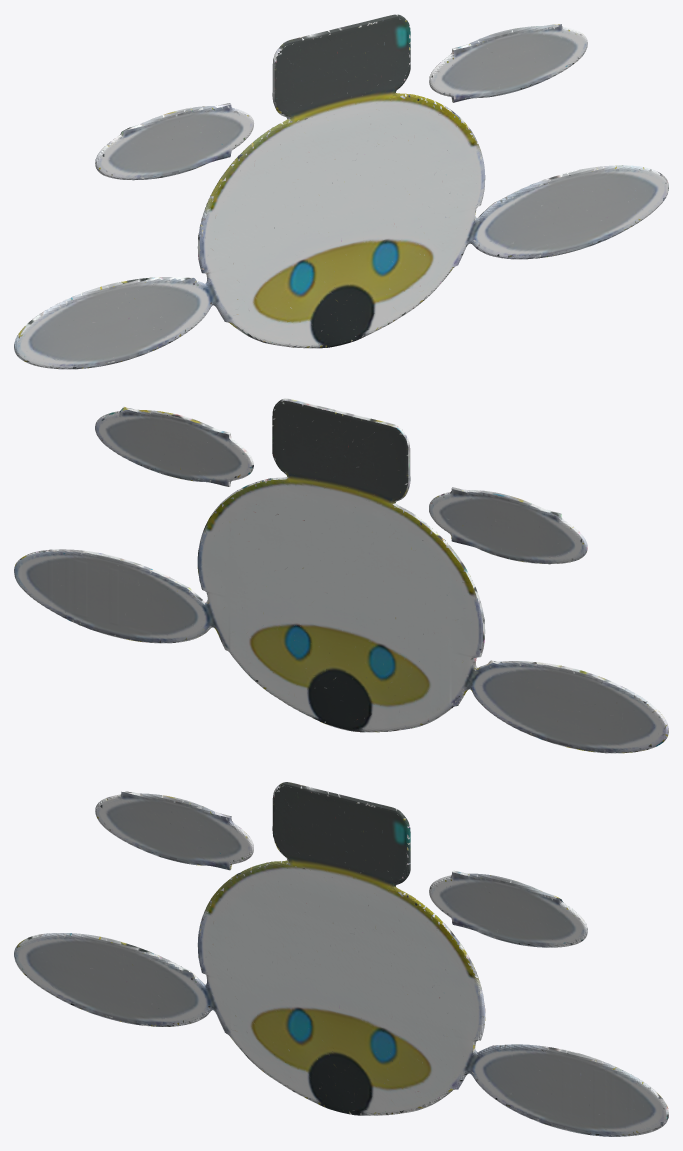
Rendered from zola-drone-body.glb.
The picture shows the model from 3 angles, top to bottom: view 1: azimuth 30°, elevation 25°; view 2: azimuth 150°, elevation 25°; view 3: azimuth 330°, elevation 25°; orthographic projection.
Parts seen in each view (by area): view 1: geometry_0; view 2: geometry_0; view 3: geometry_0.
Boxes of the visible parts, box(x1,y1,x2,y2) form: geometry_0: box(14, 14, 668, 369); geometry_0: box(14, 398, 668, 753); geometry_0: box(14, 782, 668, 1136).
Size of the model in its own units: 1.99 by 0.9252 by 0.0134.
Materials: 1 (1 with a texture image).
